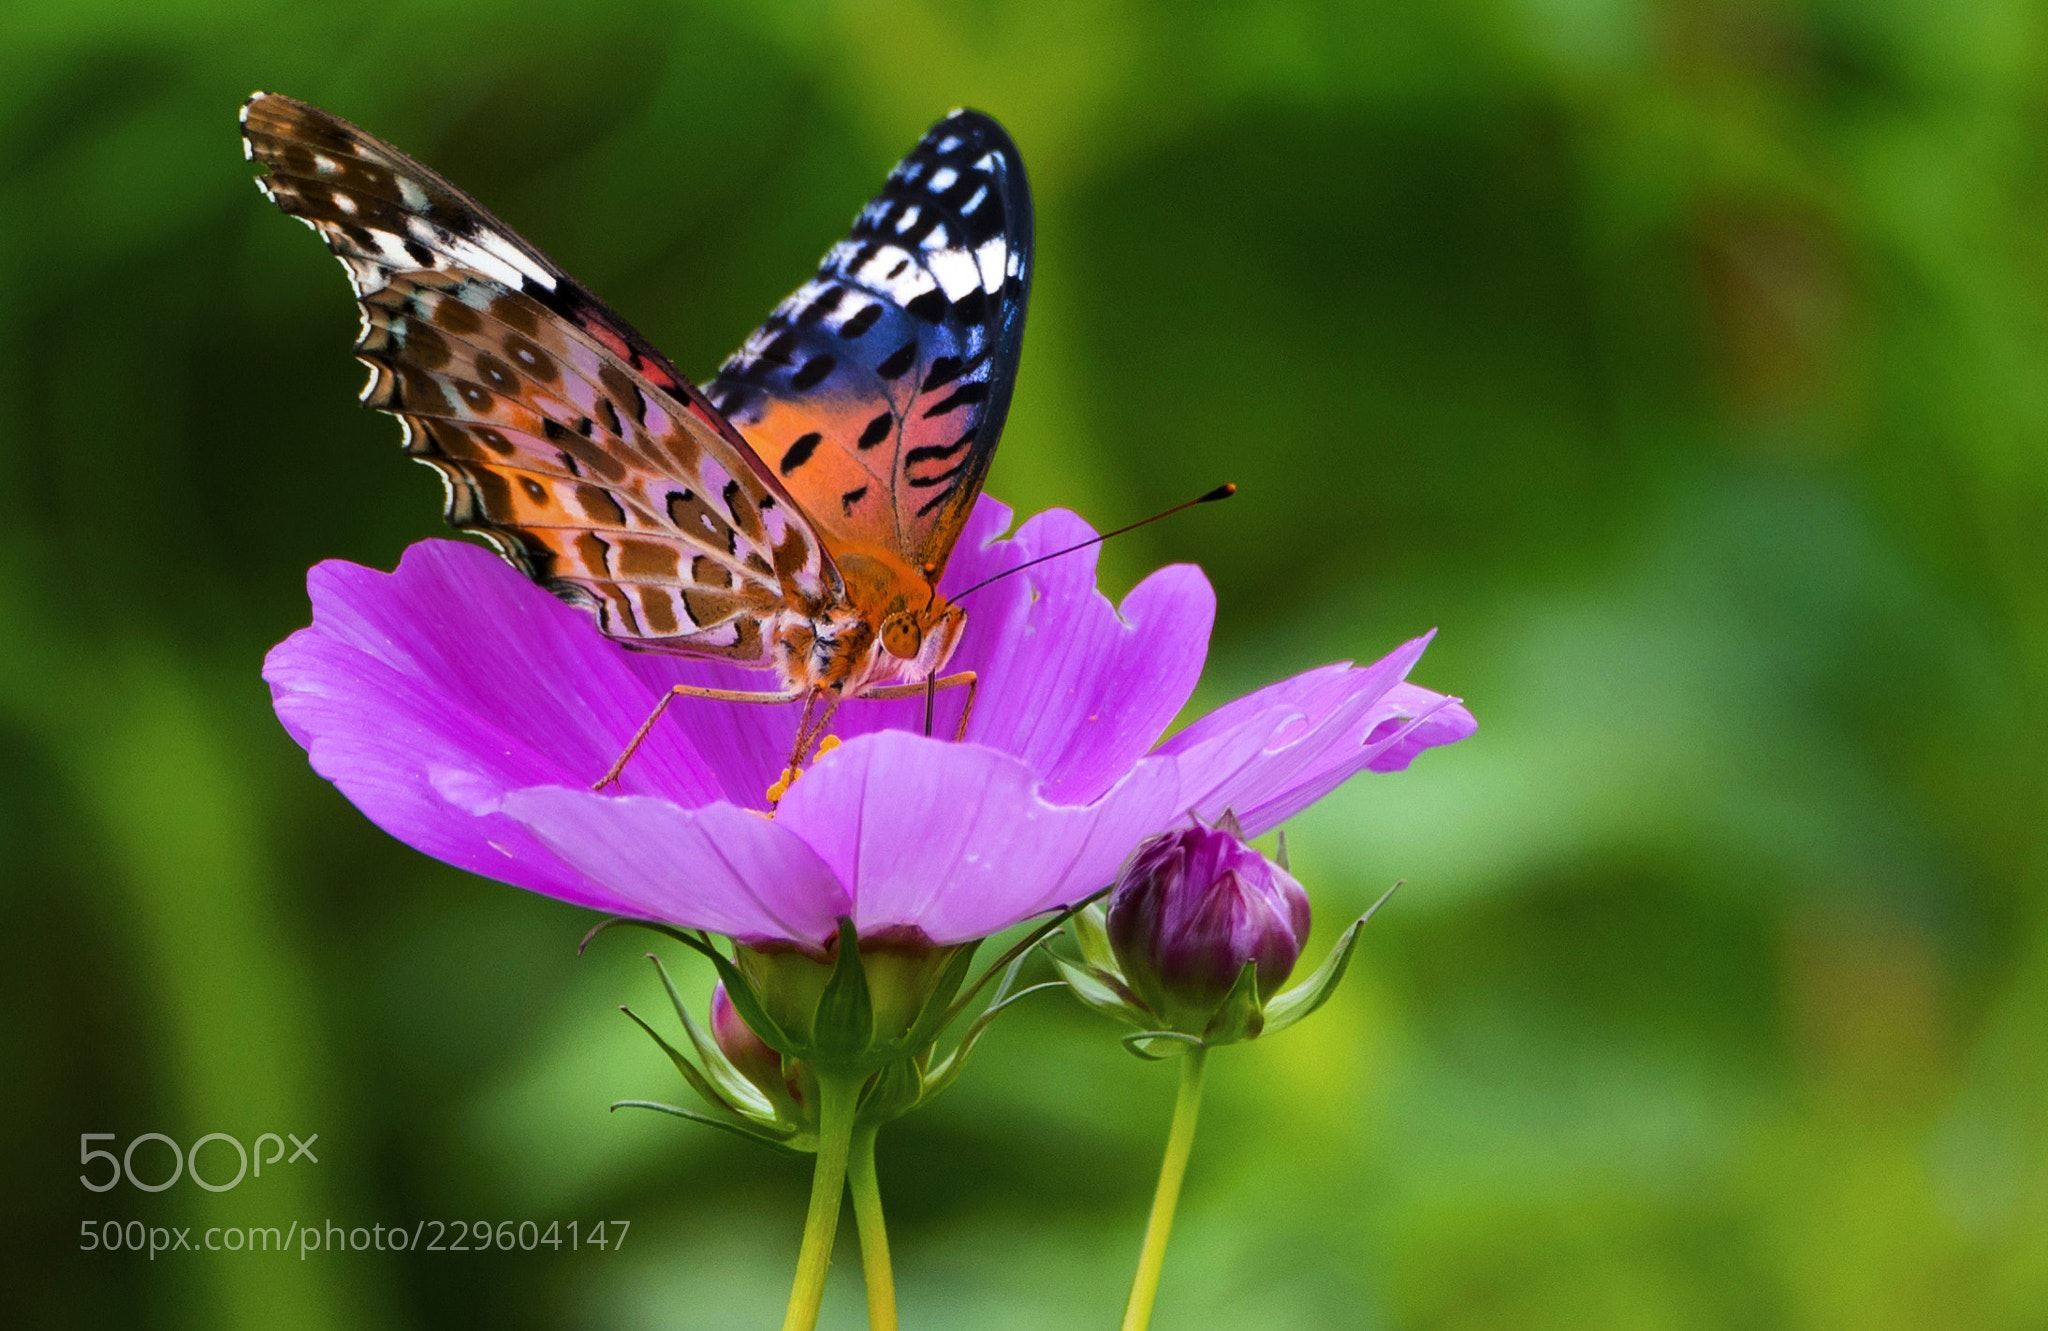Argyreus hyperbius: (222, 72, 1255, 800)
butterfly: (219, 70, 1254, 798)
